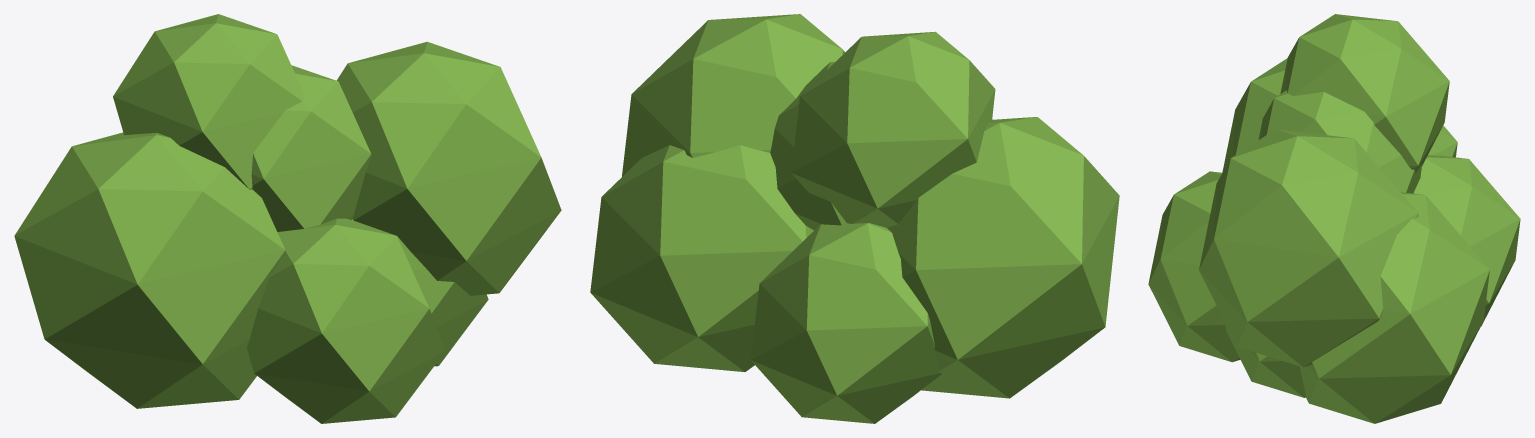
Rendered from Bush 1.fbx.
3 views of the same model, side by side, from view 1: azimuth 30°, elevation 25°; view 2: azimuth 150°, elevation 25°; view 3: azimuth 270°, elevation 25° (orthographic). The views are drawn at different scales.
Visible parts, largest first — view 1: Bush_1; view 2: Bush_1; view 3: Bush_1.
Part boxes in pixels (left/top/right/bottom): Bush_1: left=14, top=14, right=561, bottom=423; Bush_1: left=590, top=14, right=1119, bottom=423; Bush_1: left=1148, top=14, right=1520, bottom=423.
Bounding box in the file's own units: 3.65 × 2.69 × 2.86.
Materials: 1 (1 with a texture image).
